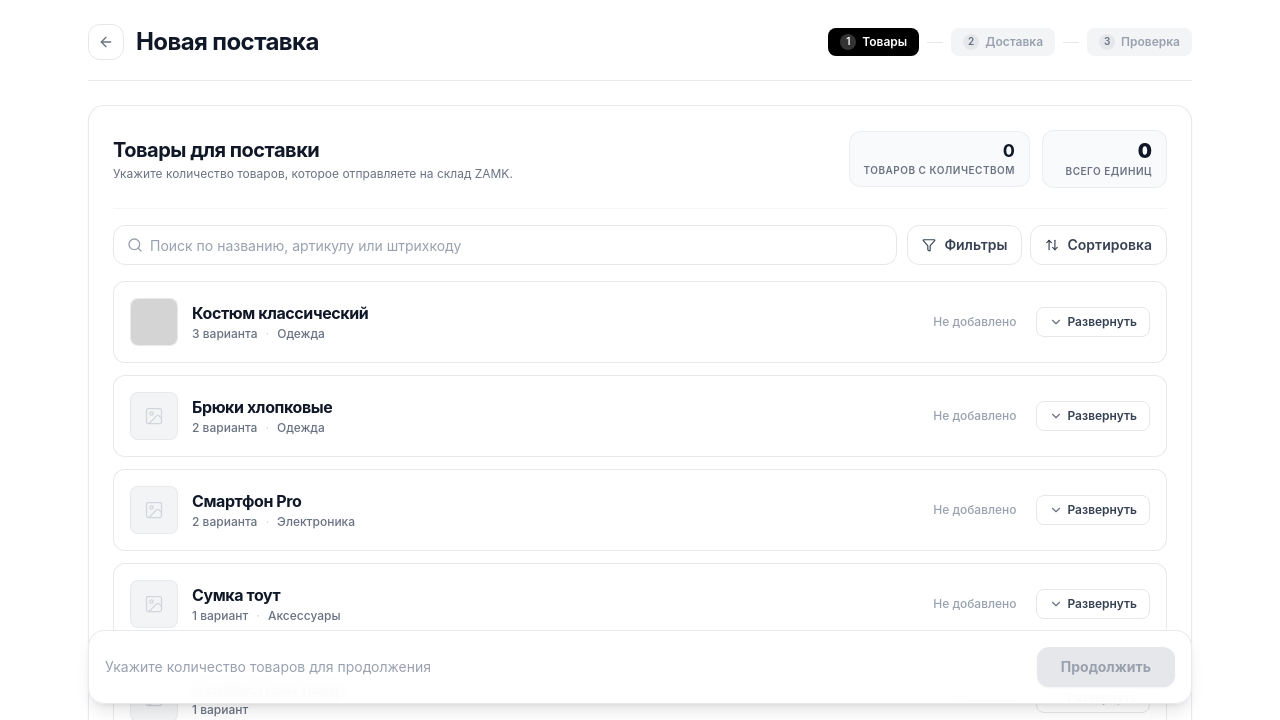
Test: SellerSupplyNew Component (SUP.2B3.1 - Category Name & Filter Chips) › E, F, G, H, M: applying filters renders active chips with correct labels and filter badge count matches chips count
Expected: the heading "Костюм классический" is shown, 192,302 -> 368,324
Note: Open filter popover
Click the button "Фильтры" at coordinates (965, 245), box 907,225 -> 1022,265
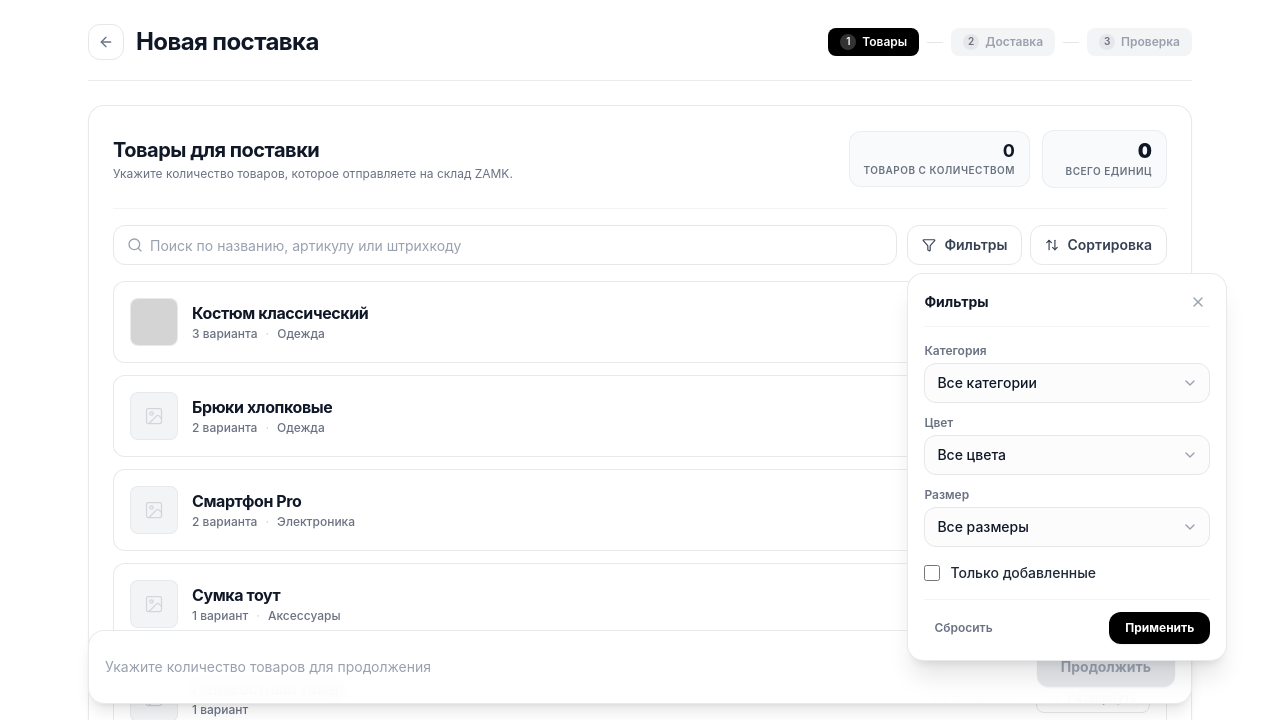
Note: Select category, color, size, and only added
Select "Одежда" in the dropdown named "Категория" at coordinates (1067, 383), box 924,363 -> 1210,403
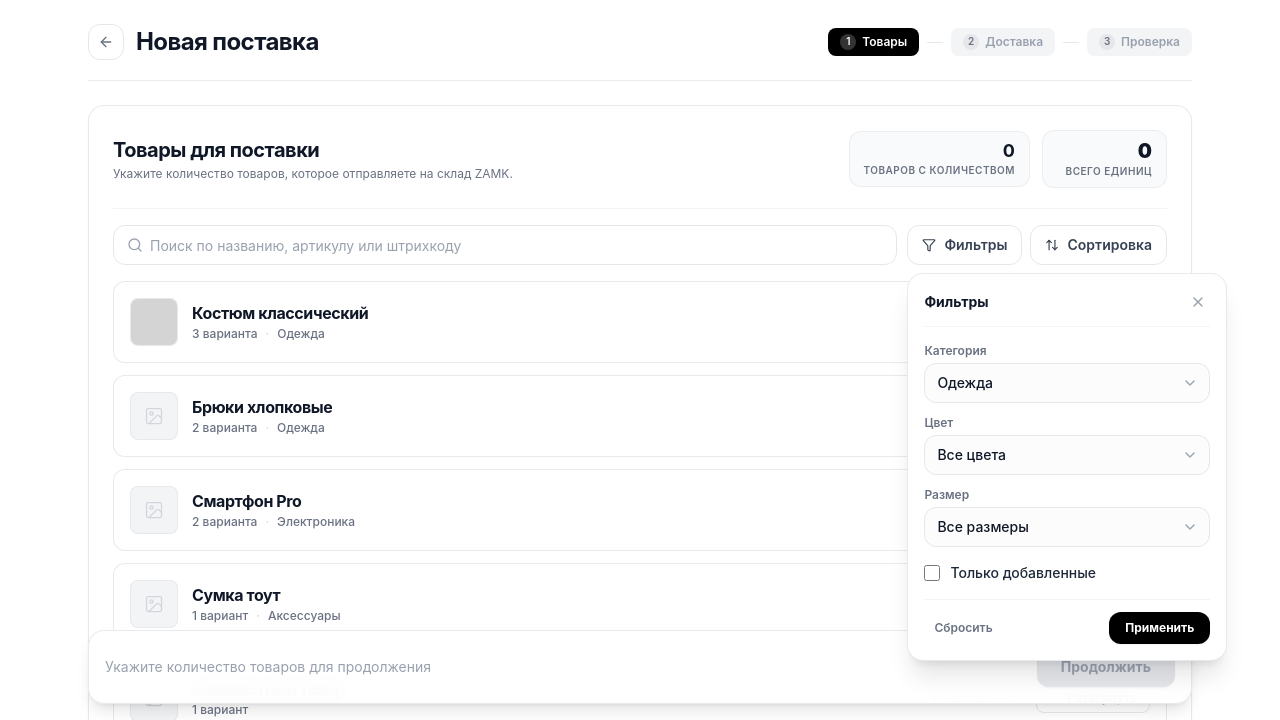
Select "Серый" in the dropdown named "Цвет" at coordinates (1067, 455), box 924,435 -> 1210,475
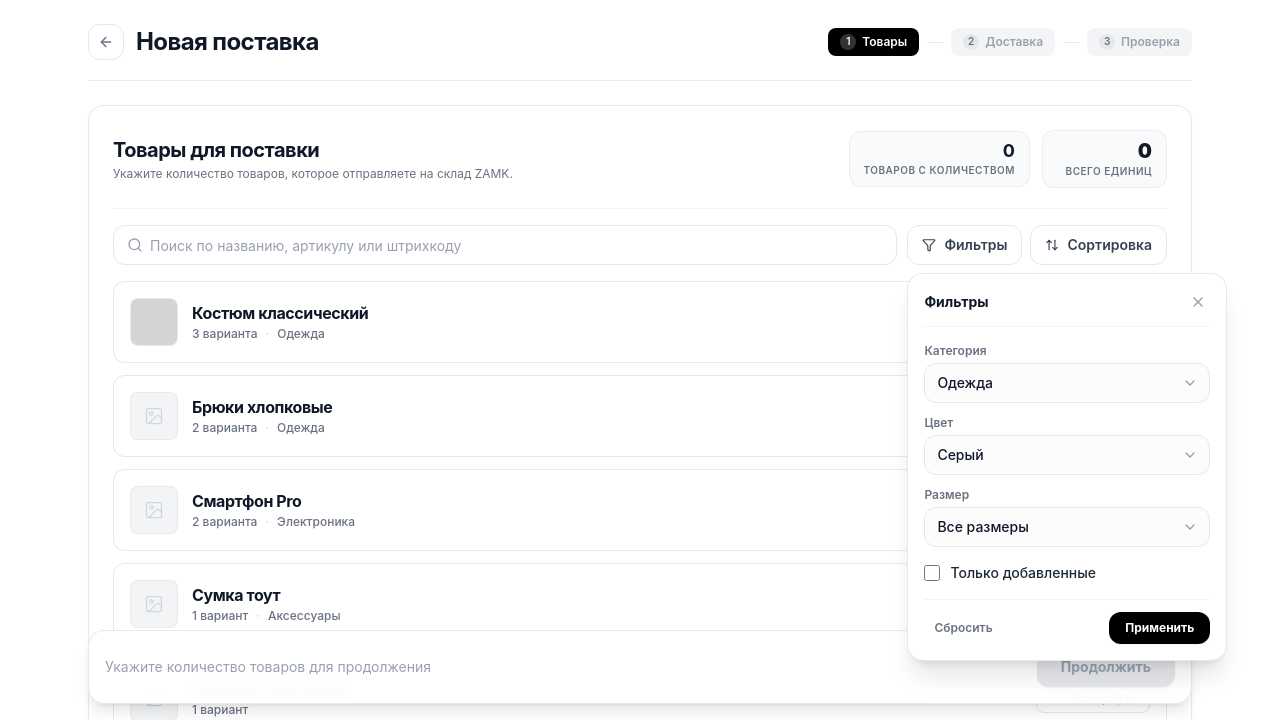
Select "L" in the dropdown named "Размер" at coordinates (1067, 527), box 924,507 -> 1210,547
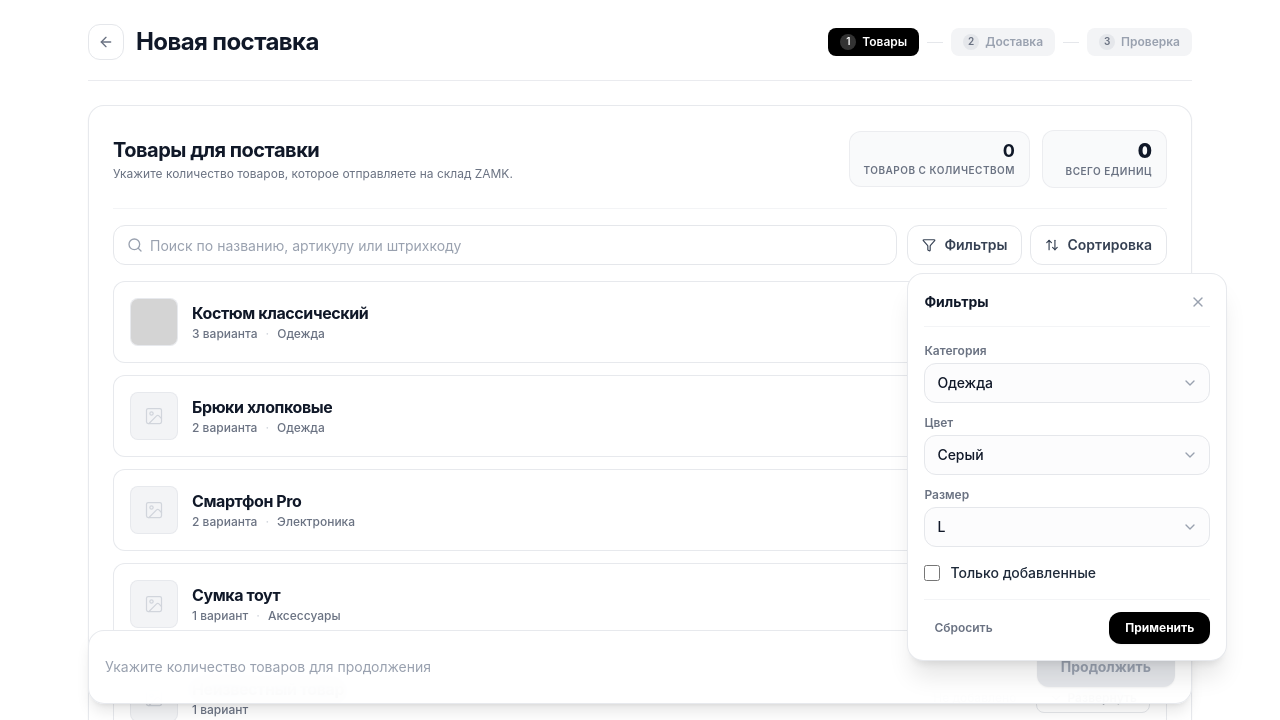
Click the checkbox labelled "Только добавленные" at coordinates (932, 573), box 924,565 -> 940,581
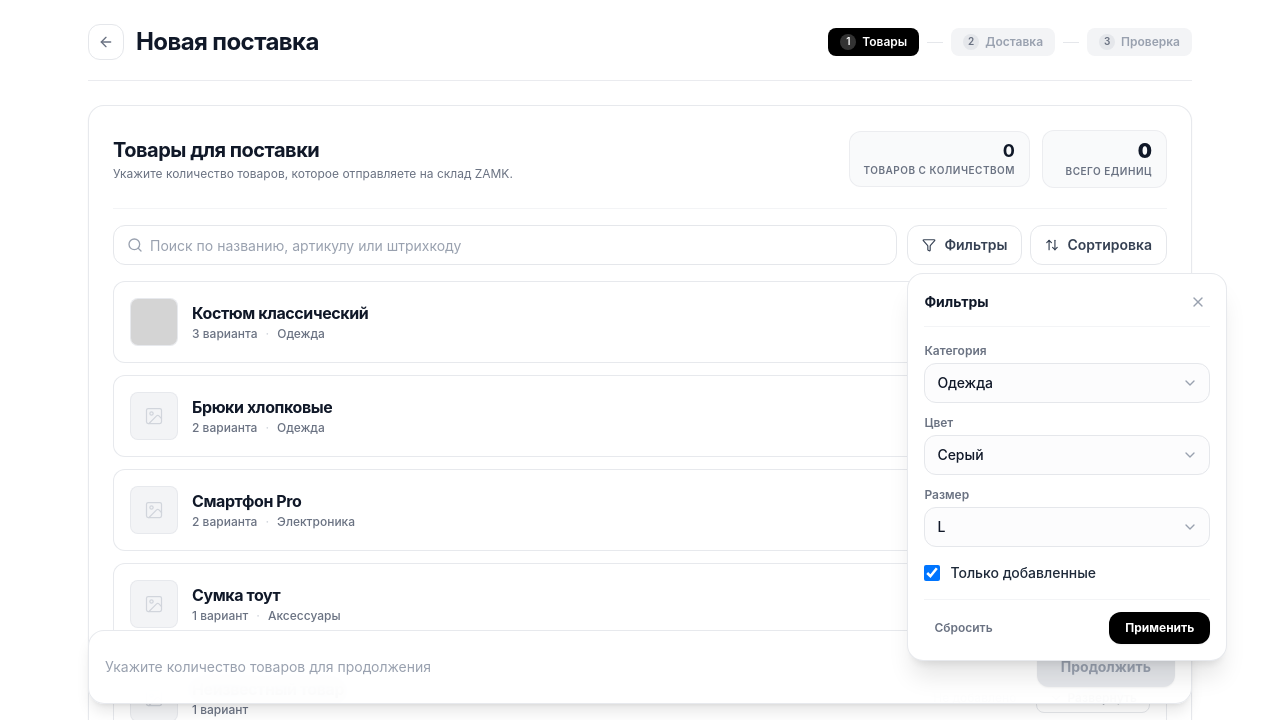
Click the button "Применить" at coordinates (1160, 628), box 1109,612 -> 1210,644
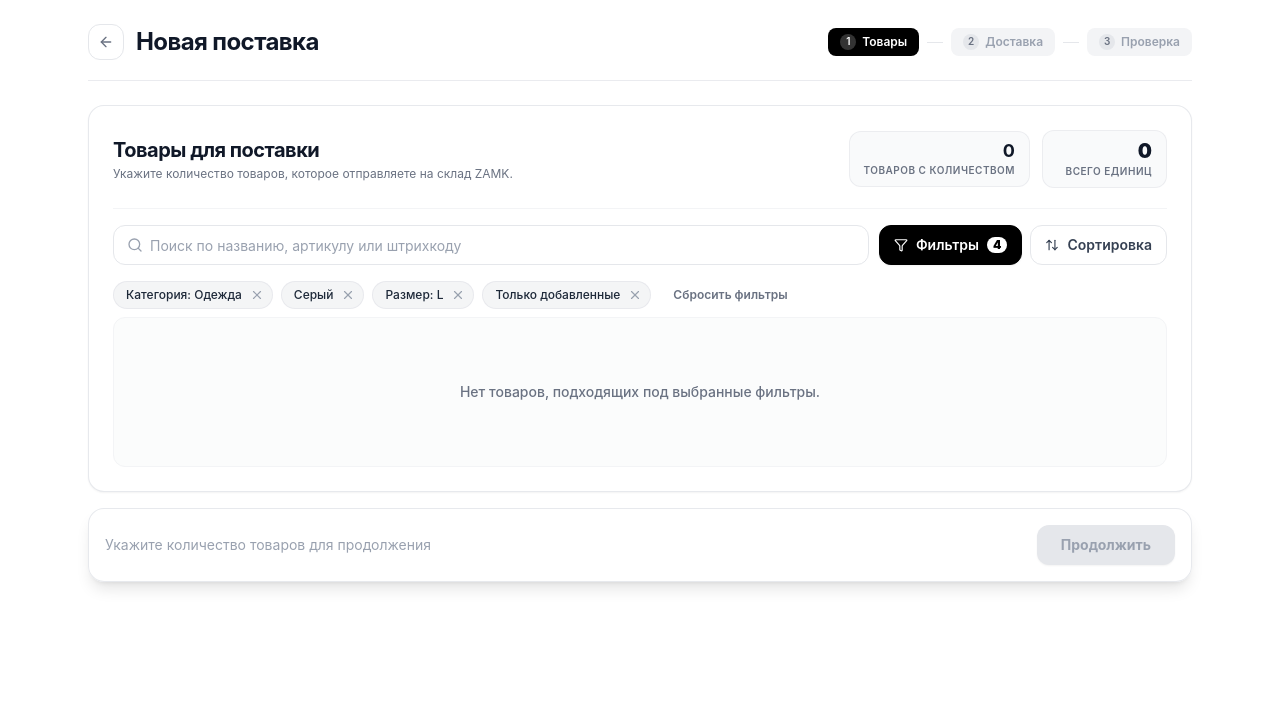
Result: the text "Категория: Одежда" is shown at 126,287 -> 242,303
Result: the text "Серый" is shown at 294,287 -> 333,303
Result: the text "Размер: L" is shown at 385,287 -> 443,303
